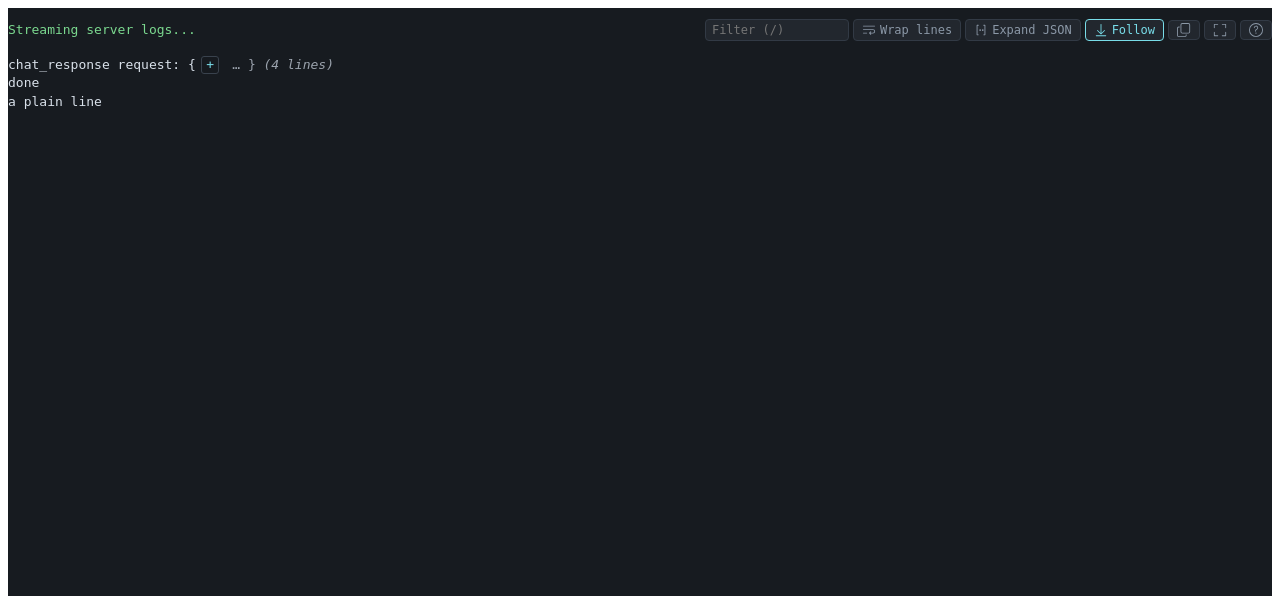
it: ServerLogs › collapses blocks of JSON, and expands them one by one, or all of them
Expected: the element named "Server logs" does not show "\"model\"", left=8, top=56, right=334, bottom=109
Expected: the element named "Server logs" shows "a plain line", left=8, top=94, right=102, bottom=109
Click the button named "Expand the JSON".
click(210, 65)  # box left=201, top=56, right=219, bottom=74
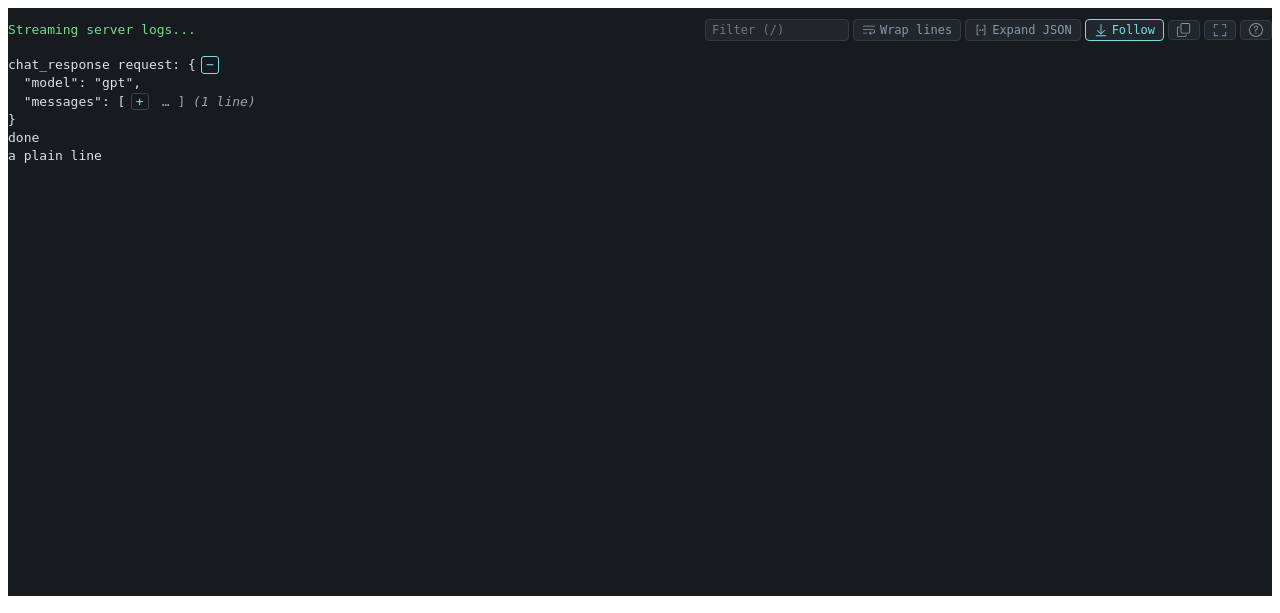
Result: the element named "Server logs" shows "\"model\": \"gpt\"" at left=8, top=75, right=141, bottom=90
Click the button named "Collapse the JSON".
click(210, 65)  # box left=201, top=56, right=219, bottom=74
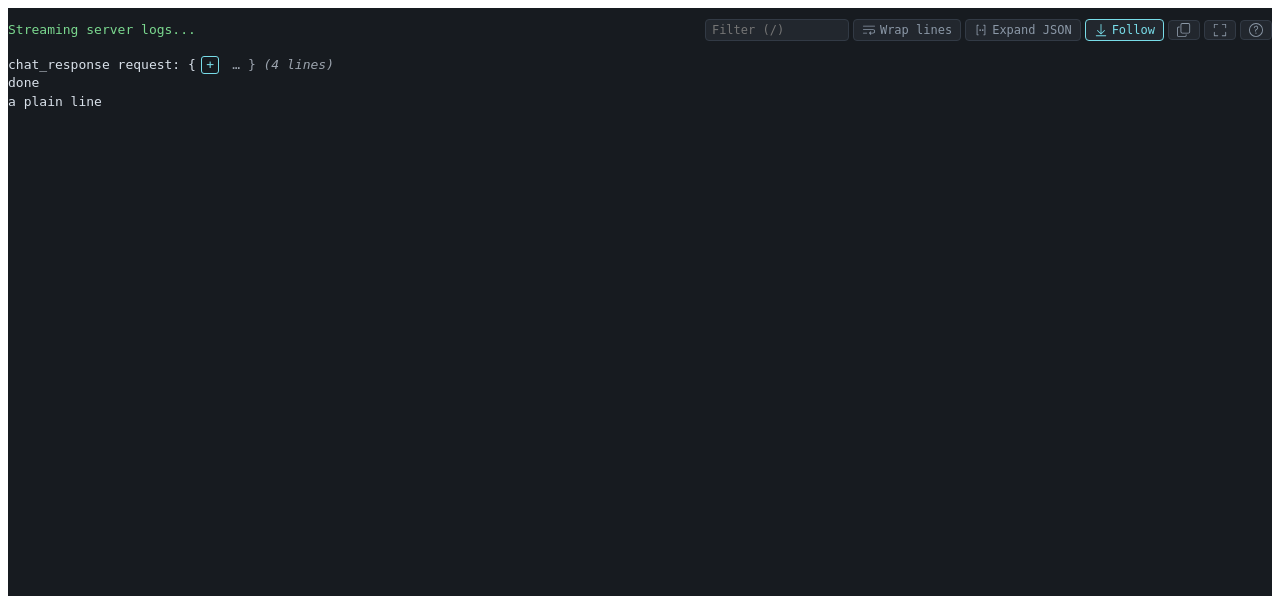
Result: the element named "Server logs" no longer shows "\"model\"" at left=8, top=56, right=334, bottom=109
Click the button "Expand JSON".
click(1023, 30)  # box left=965, top=19, right=1081, bottom=42
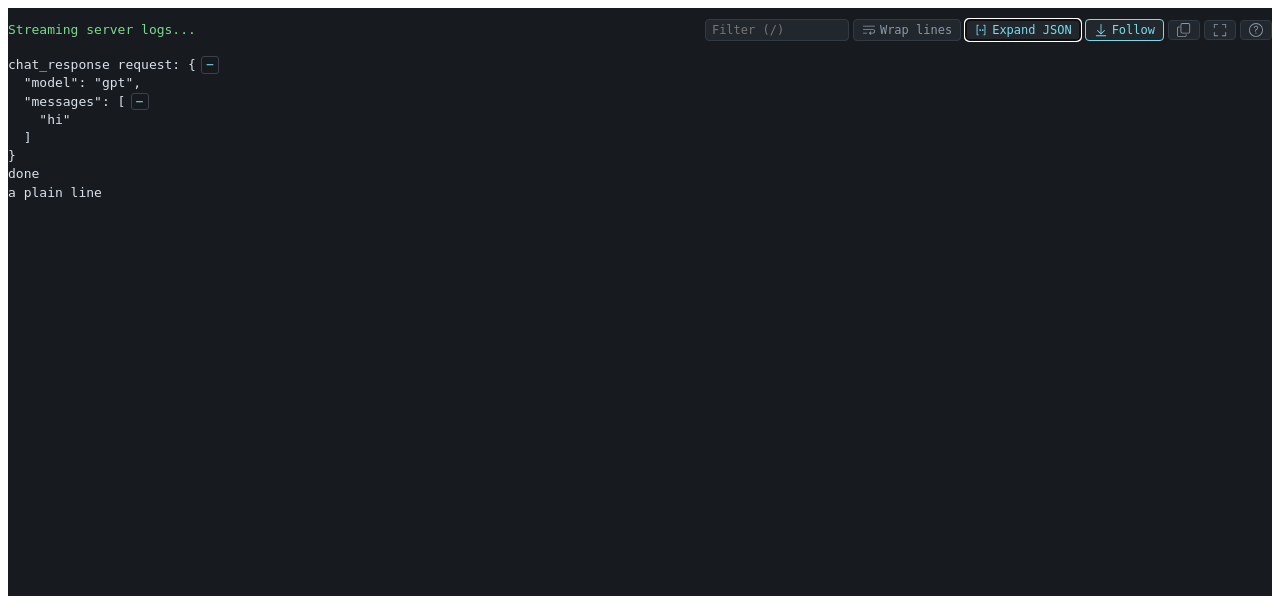
Result: the element named "Server logs" shows "\"hi\"" at left=8, top=112, right=71, bottom=127
Click the button "Expand JSON".
click(1023, 30)  # box left=965, top=19, right=1081, bottom=42
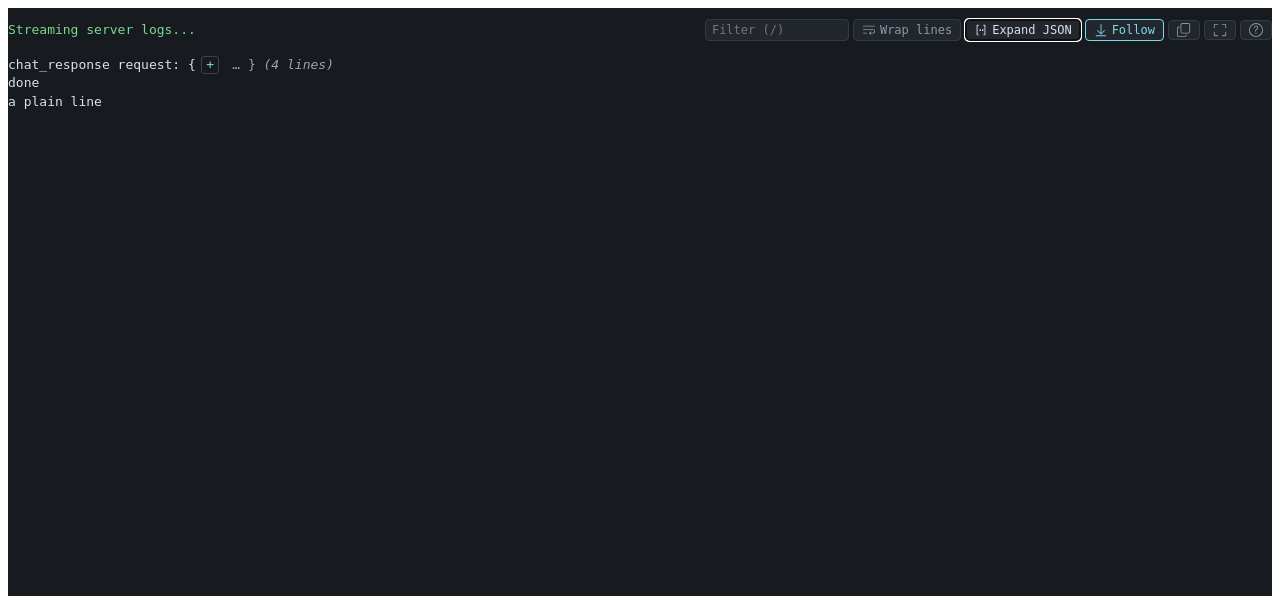
Result: the element named "Server logs" no longer shows "\"model\"" at left=8, top=56, right=334, bottom=109
